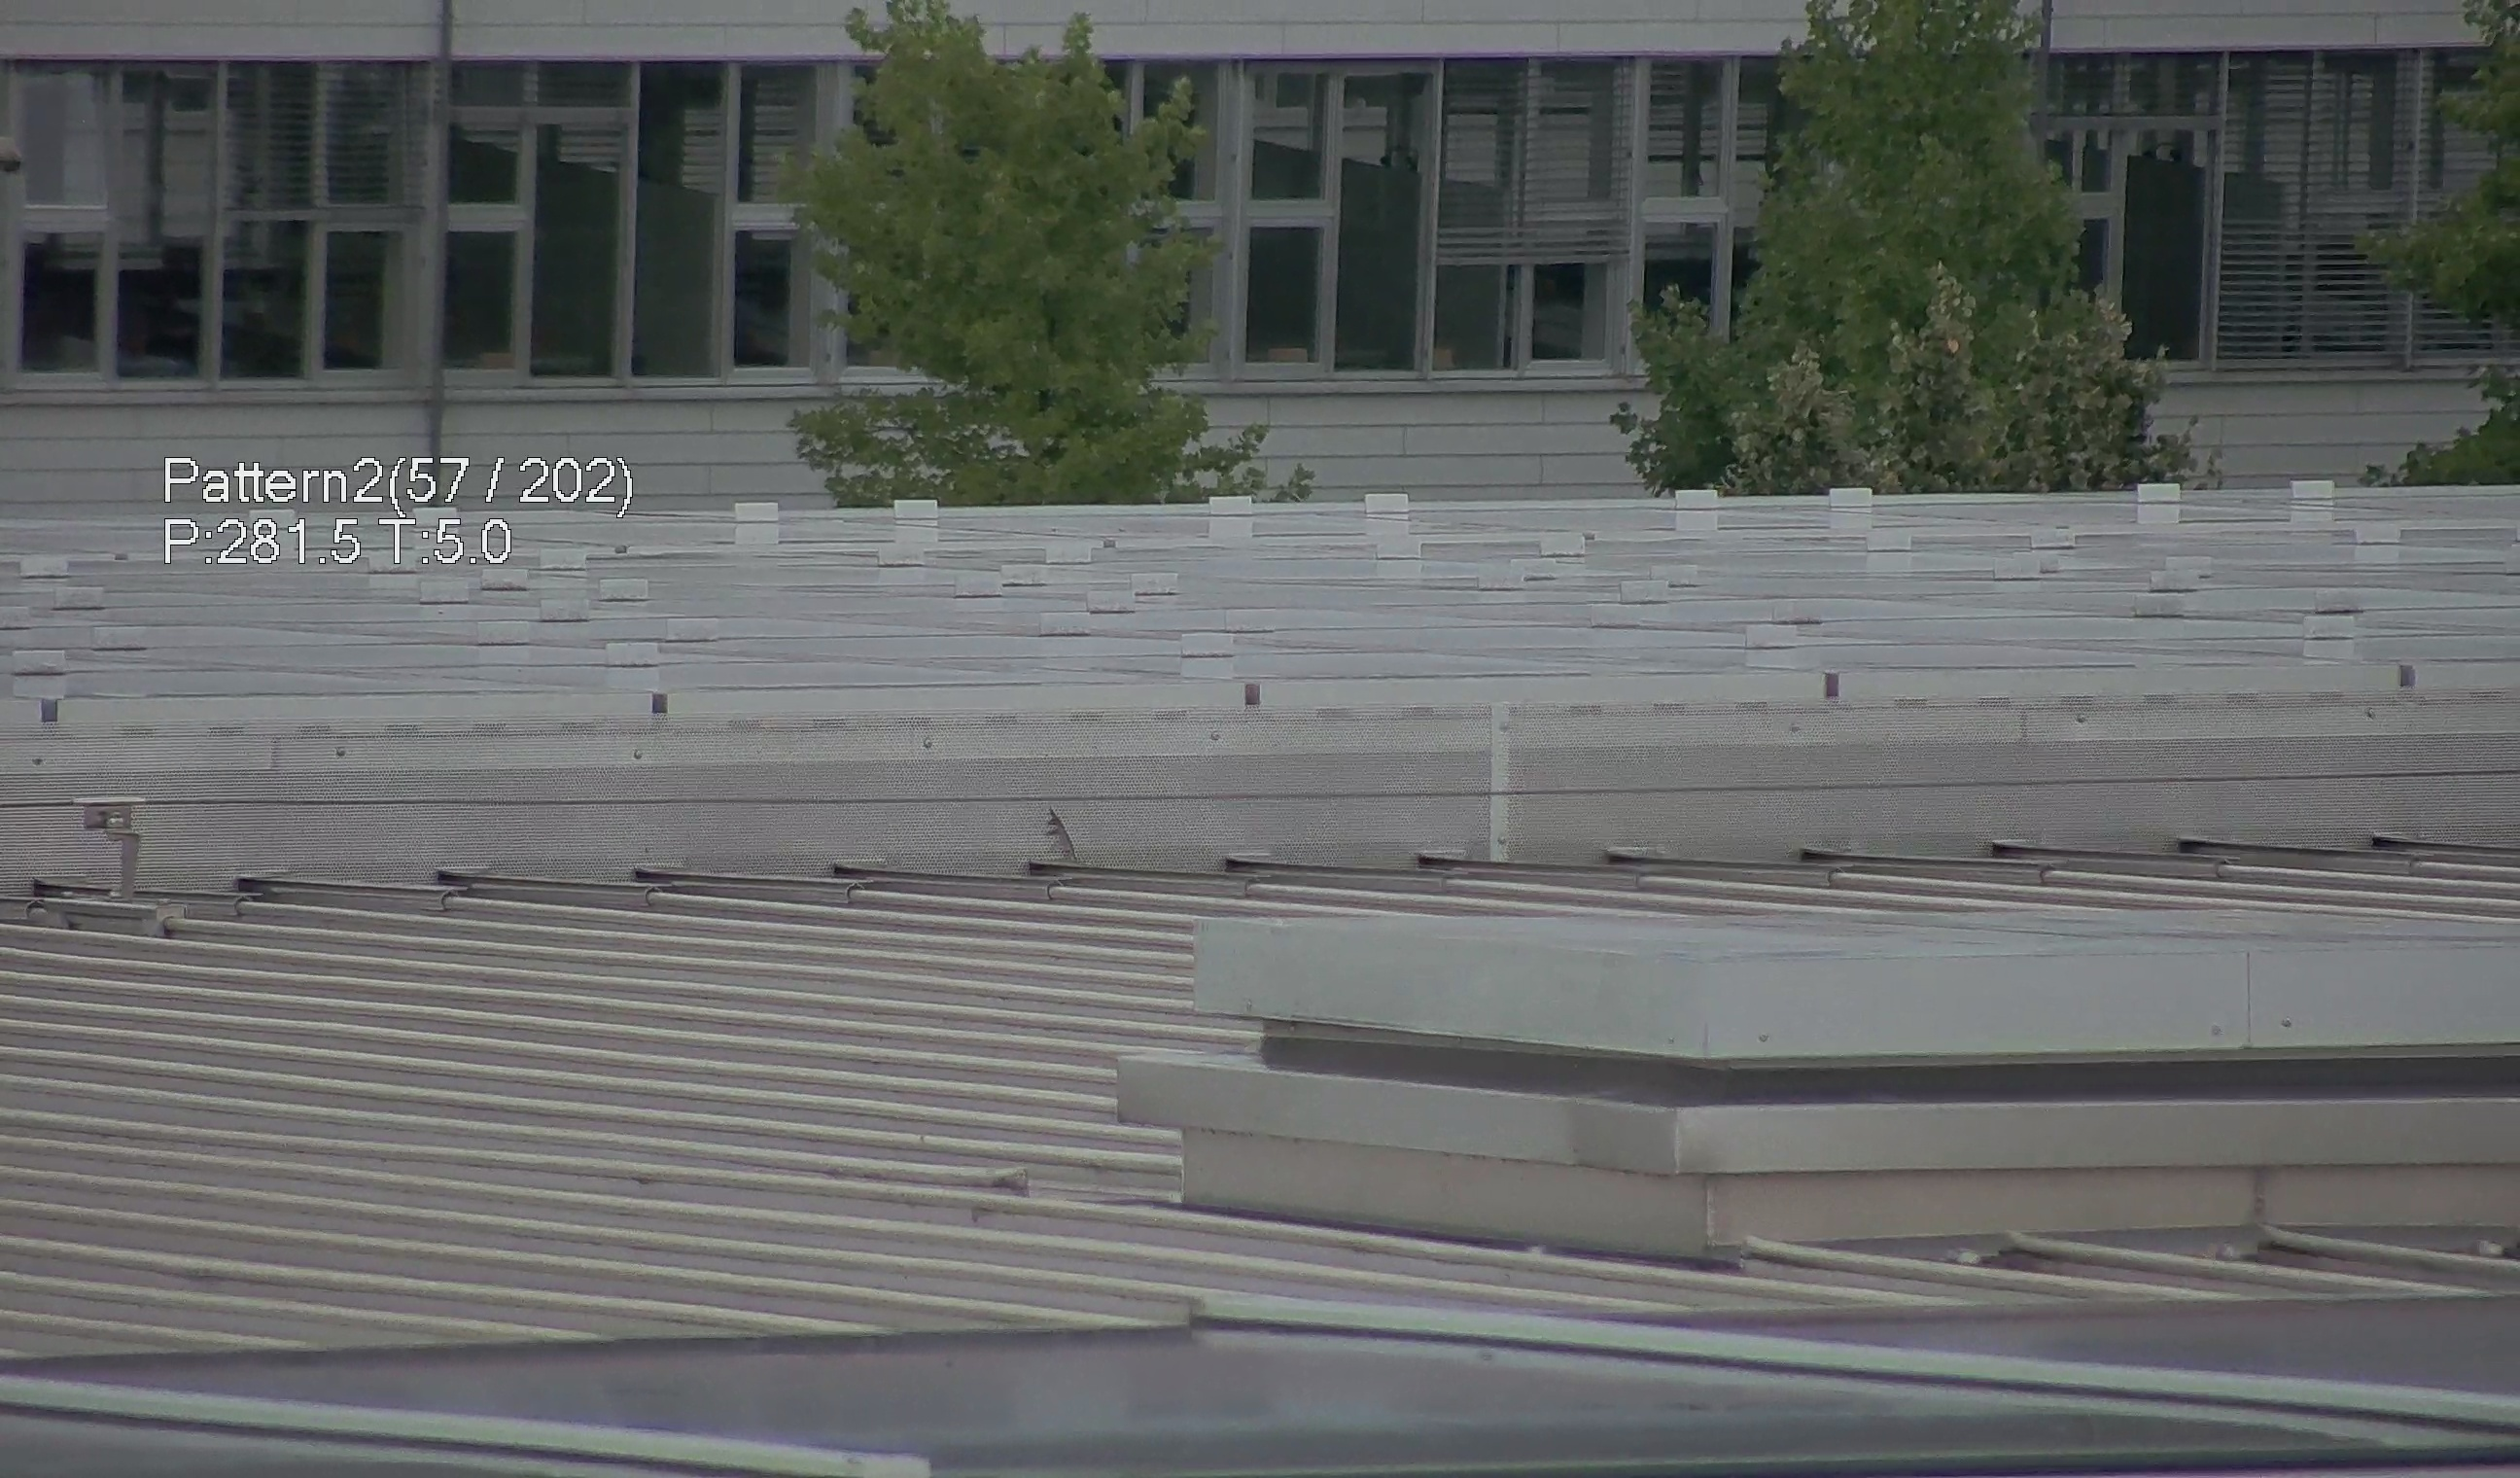Other: (1025, 788, 1080, 890)
